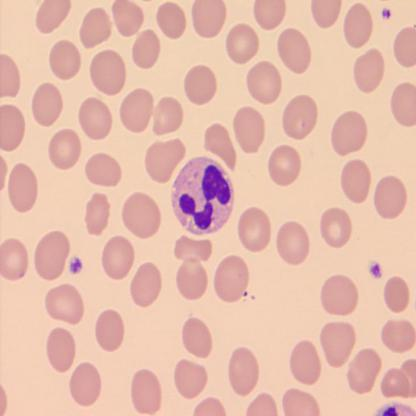Segmented neutrophil: (168, 154, 238, 238)
